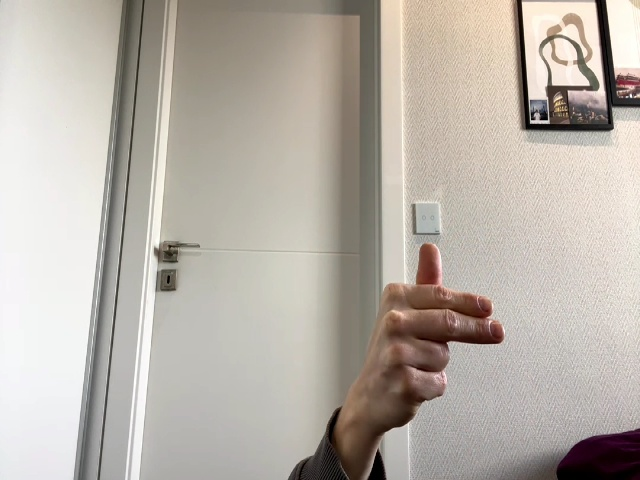N: (361, 243, 505, 423)
